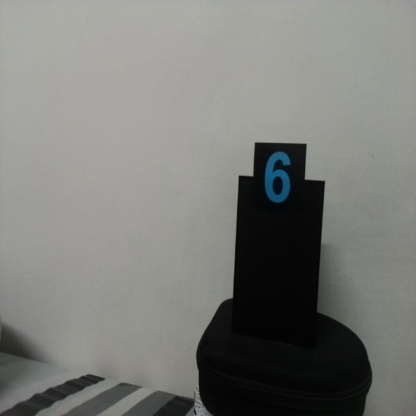id_6: (254, 142, 304, 224)
